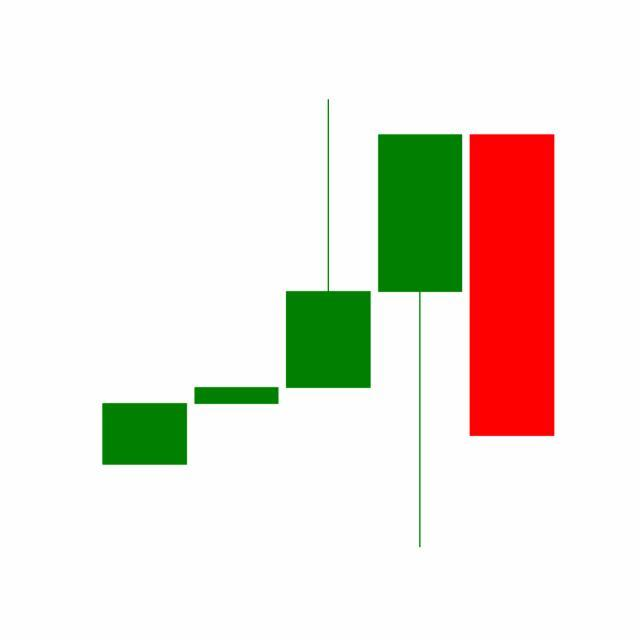Marubozu: (466, 132, 559, 440)
